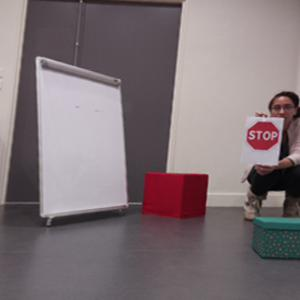stop: (246, 120, 279, 152)
